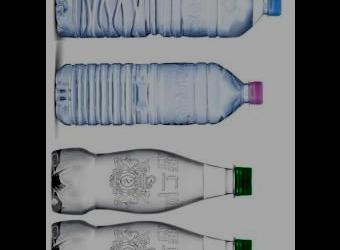bottle: (51, 143, 251, 216), (54, 60, 262, 128), (56, 0, 283, 40), (51, 217, 250, 250)
